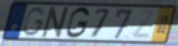7: (113, 8, 134, 41), (91, 8, 112, 39)
G: (65, 6, 92, 39), (22, 6, 47, 38)
N: (40, 6, 72, 39)
Z: (130, 9, 158, 40)
